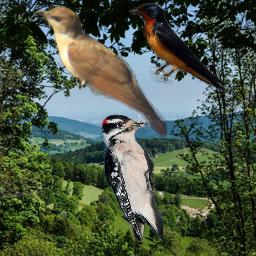Cuckoo: (34, 6, 167, 137)
Swallow: (129, 3, 226, 92)
Woodpecker: (101, 114, 163, 242)
